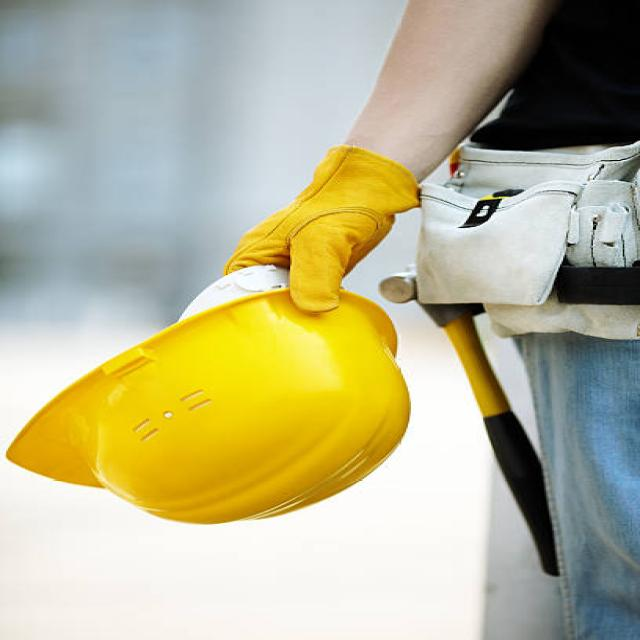gloves: (229, 143, 419, 314)
